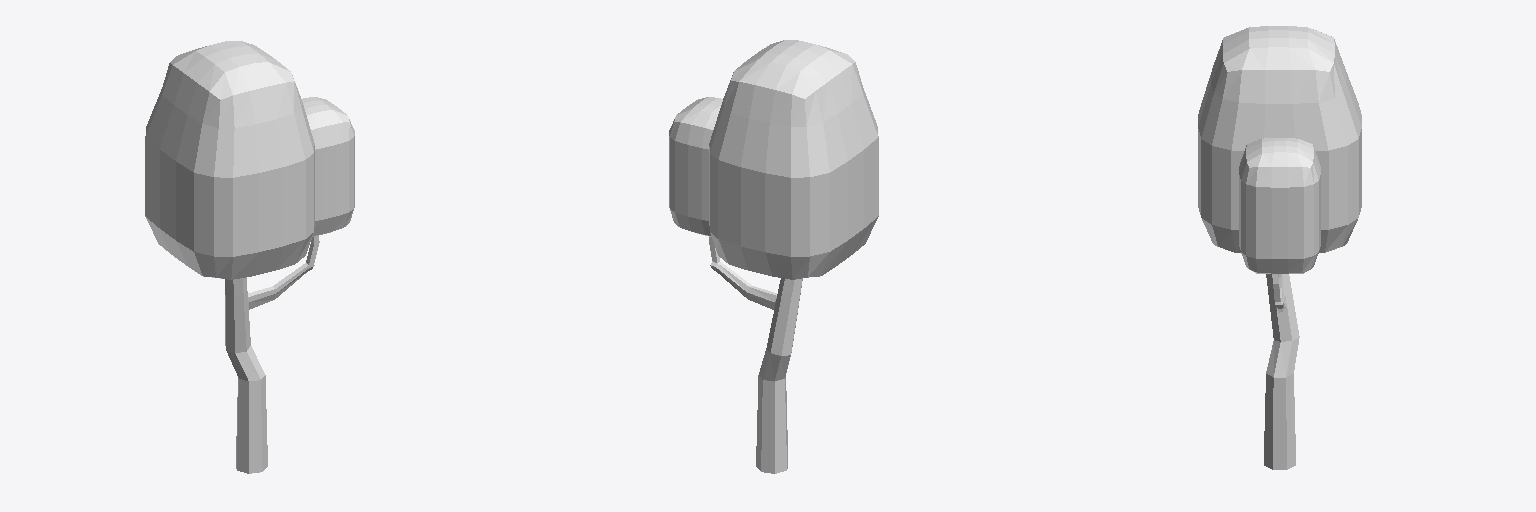
Rendered from Tree2.obj.
The picture shows the model from 3 angles: view 1: azimuth 30°, elevation 25°; view 2: azimuth 150°, elevation 25°; view 3: azimuth 270°, elevation 25°; orthographic projection.
Visible parts, largest first — view 1: Rounded_Box, Cylinder, Rounded_Box_Copy; view 2: Rounded_Box, Cylinder, Rounded_Box_Copy; view 3: Rounded_Box, Rounded_Box_Copy, Cylinder.
Part boxes in pixels (left/top/right/bottom): Rounded_Box: left=145, top=41, right=314, bottom=279; Cylinder: left=225, top=236, right=319, bottom=473; Rounded_Box_Copy: left=302, top=97, right=354, bottom=236; Rounded_Box: left=709, top=40, right=878, bottom=279; Cylinder: left=709, top=237, right=802, bottom=473; Rounded_Box_Copy: left=669, top=97, right=722, bottom=236; Rounded_Box: left=1198, top=26, right=1361, bottom=252; Rounded_Box_Copy: left=1239, top=138, right=1320, bottom=273; Cylinder: left=1264, top=274, right=1299, bottom=469.
Size of the model in its own units: 1.21 by 2.76 by 0.9758.